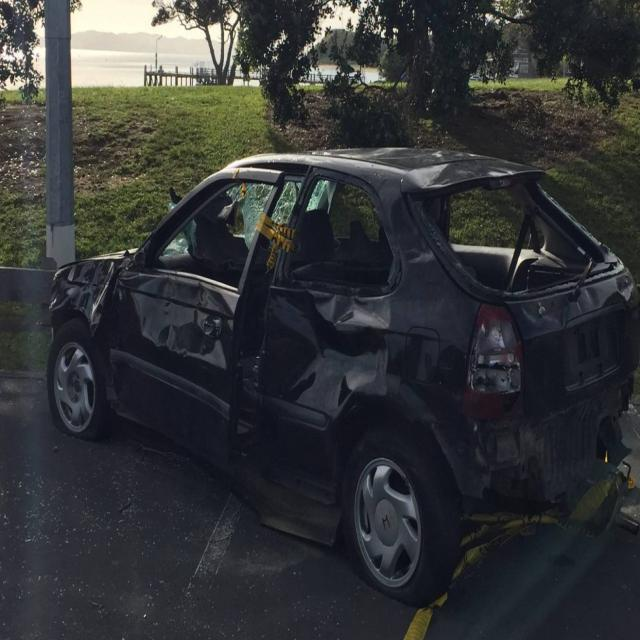Taillight-Damage: (470, 306, 531, 419)
doorouter-dent: (230, 280, 394, 480), (115, 276, 239, 476)
fender-dent: (52, 266, 110, 368)
